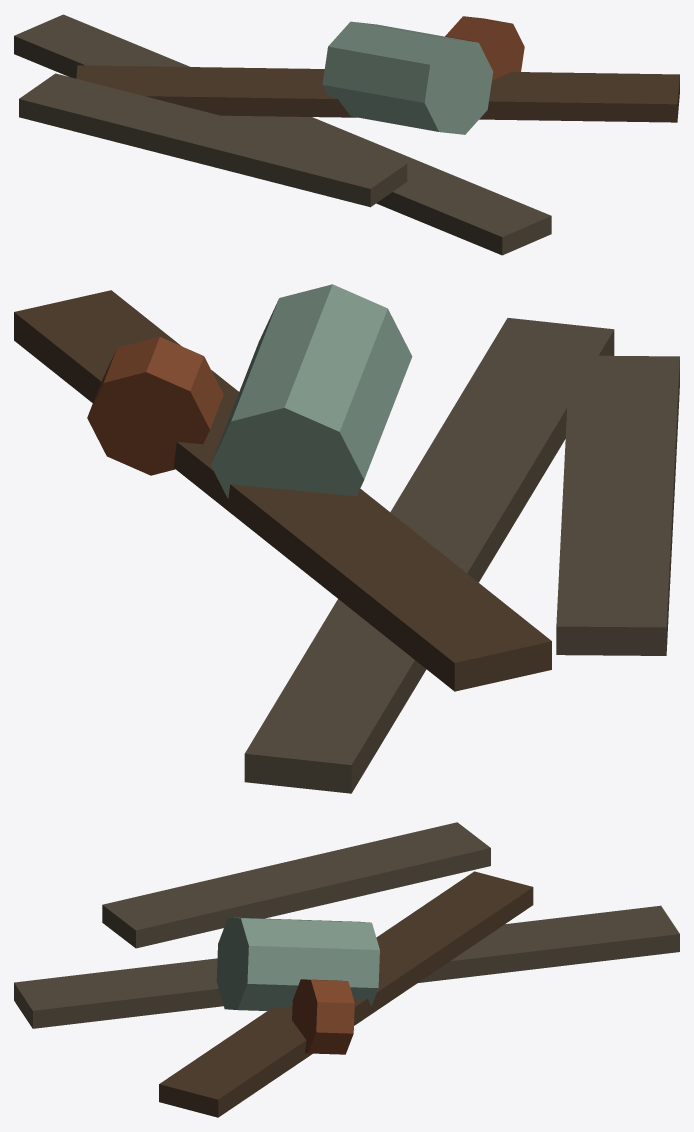
The model's file is TownJunkB.glb.
The picture shows the model from 3 angles, top to bottom: view 1: azimuth 30°, elevation 25°; view 2: azimuth 150°, elevation 25°; view 3: azimuth 270°, elevation 25°; orthographic projection. The views are drawn at different scales.
Visible parts, largest first — view 1: TownJunkB.001; view 2: TownJunkB.001; view 3: TownJunkB.001.
Part boxes in pixels (bbox=[...]): TownJunkB.001: bbox=[14, 14, 679, 255]; TownJunkB.001: bbox=[14, 284, 679, 793]; TownJunkB.001: bbox=[14, 822, 679, 1117].
Bounding box in the file's own units: 1.23 × 0.2523 × 1.34.
